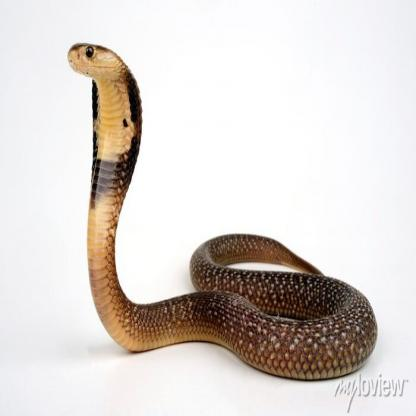snakes: (60, 34, 386, 384)
